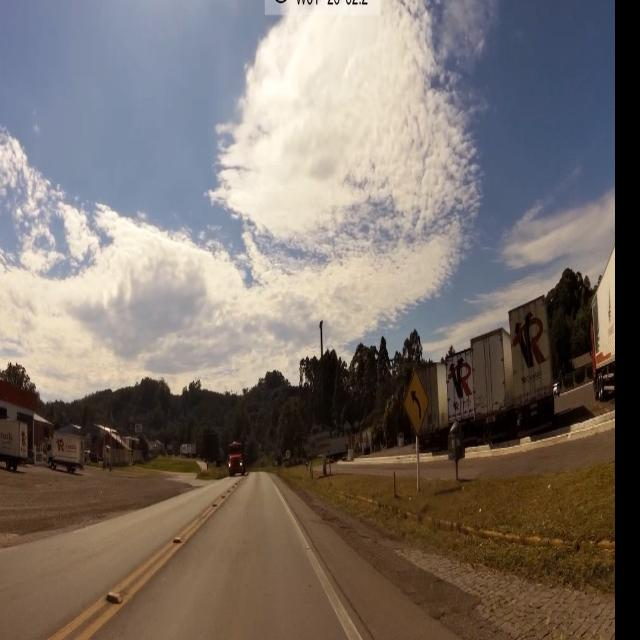A-2a: (402, 371, 431, 437)
